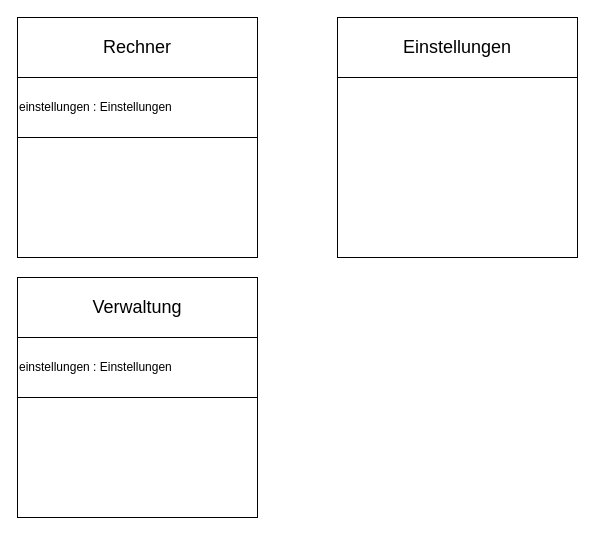
Some shapes in this 595 by 535 pixel diagram are drawn without their labels. The shapes that lost their labels are listed below. From the top down, each one's box as (x1, y1, x2, y2) in pixels, then its label:
(16, 16, 258, 258): Start () BerechneFahrpreis()
(336, 76, 578, 258): FahrpreisProMinute : Double Entsperrungskosten : Double
(16, 396, 258, 518): CreateJSON() LoadJSON()
